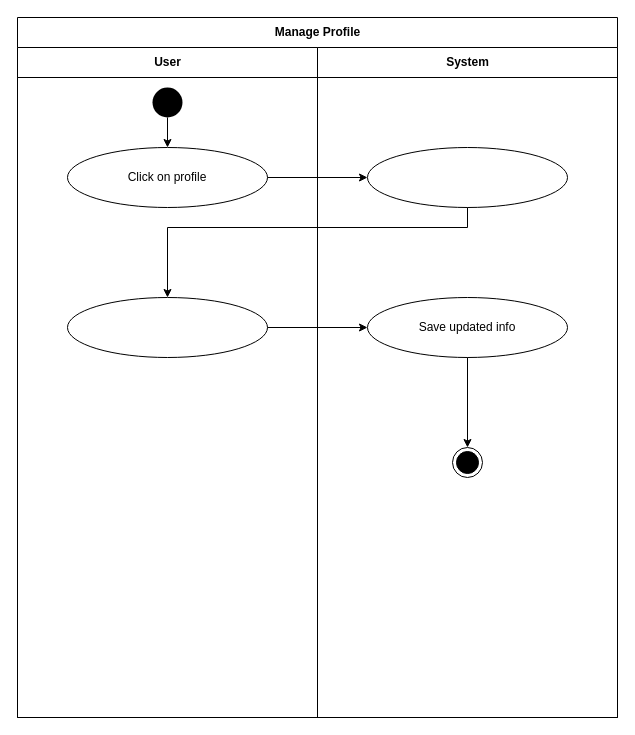
This 635x735 diagram has some shape labels left out. Here are the shapes that lost their labels. From the top down, the centre of each, then its label:
the point at 467,177: Fetch user data from DB
the point at 167,327: Update profile details
